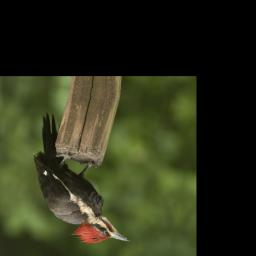Woodpecker: (11, 108, 151, 256)
